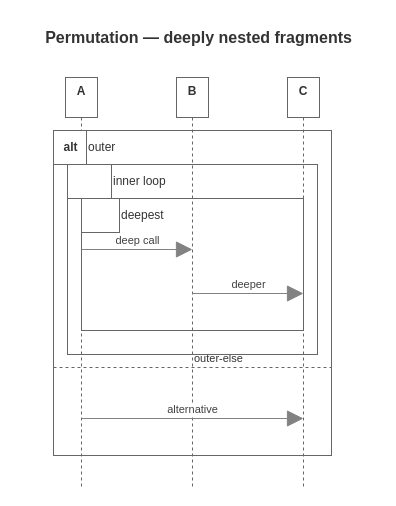
Image size: 396x506. Some labels were removed from this diagram. The shapes that lost their labels are listed below. From the top down, each one's centre as x and y in pixels, then its label:
At point (89, 181): "loop".
At point (100, 215): "opt".
